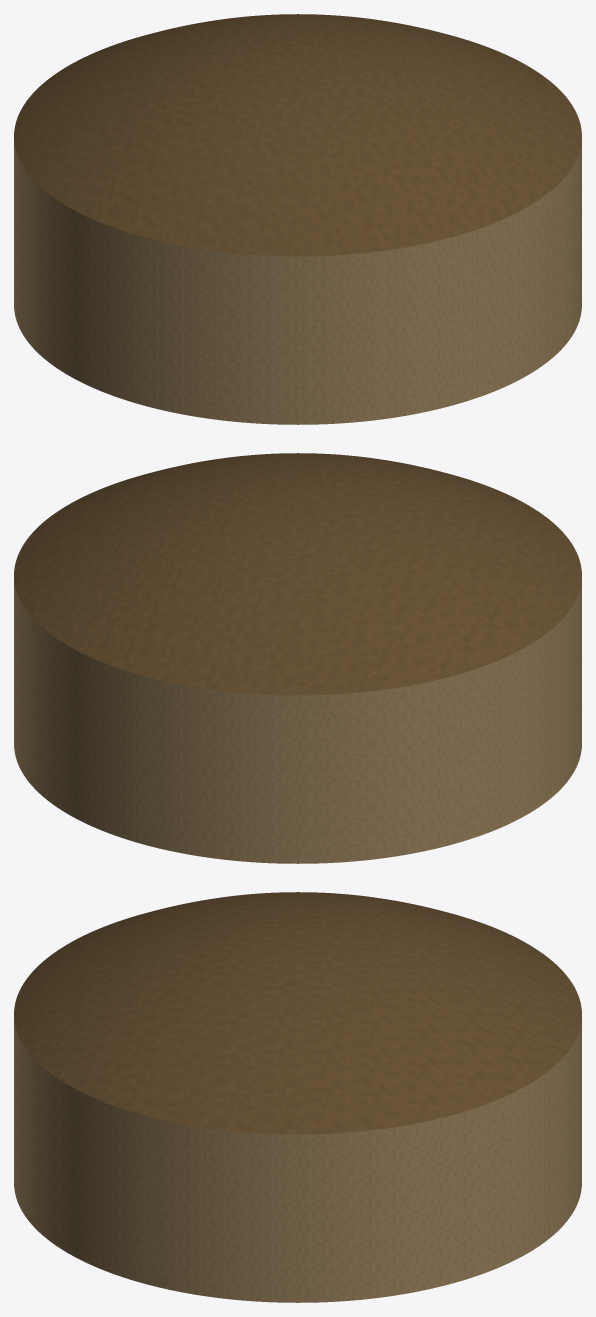
File: sats-arena-imperial-gold-v1.glb
3 views of the same model, one above another, from view 1: azimuth 30°, elevation 25°; view 2: azimuth 150°, elevation 25°; view 3: azimuth 270°, elevation 25° (orthographic).
Visible parts, largest first — view 1: Dome, WallShell; view 2: Dome, WallShell; view 3: Dome, WallShell.
Part boxes in pixels (<box>): Dome: <box>14,14,581,256</box>; WallShell: <box>14,140,581,424</box>; Dome: <box>14,453,581,695</box>; WallShell: <box>14,579,581,863</box>; Dome: <box>14,892,581,1134</box>; WallShell: <box>14,1019,581,1302</box>.
Bounding box in the file's own units: 24 × 11.25 × 24.
11 materials, 6 textured.
